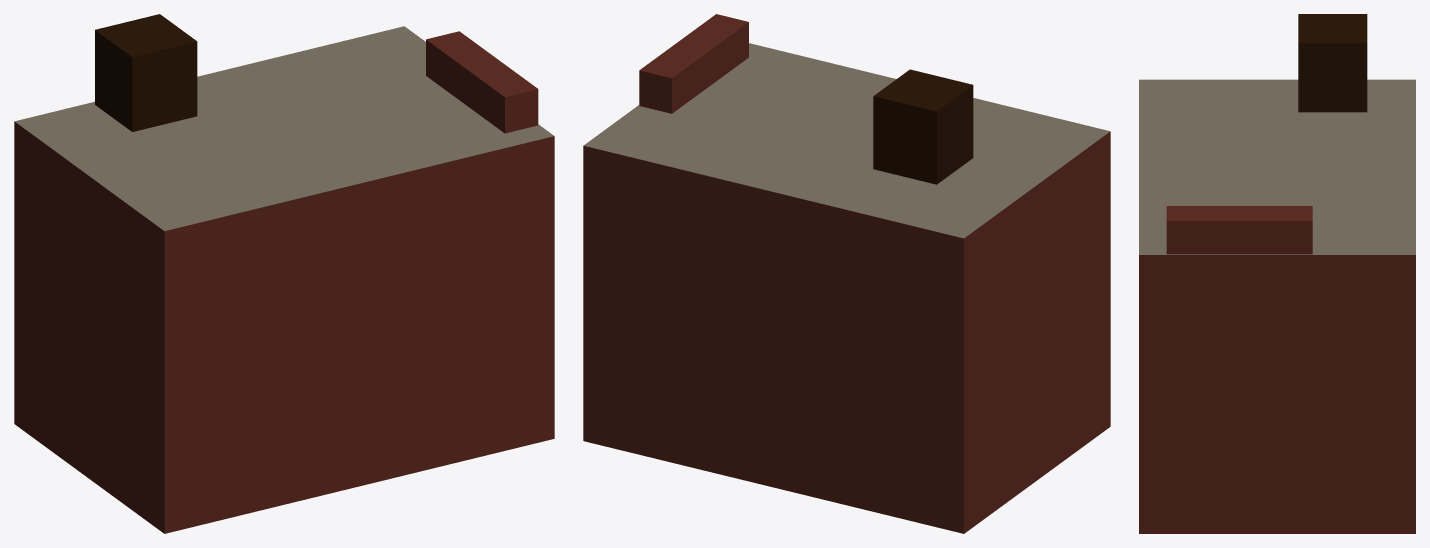
File: mh-mill-lofts.towns-v1.lod2.glb
3 renders of one model, left to right at view 1: azimuth 30°, elevation 25°; view 2: azimuth 150°, elevation 25°; view 3: azimuth 270°, elevation 25°, orthographic. The views are drawn at different scales.
Parts seen in each view (by area): view 1: mh-mill-lofts; view 2: mh-mill-lofts; view 3: mh-mill-lofts.
Part boxes in pixels (x1=…): mh-mill-lofts: x1=14, y1=14, x2=554, y2=533; mh-mill-lofts: x1=583, y1=14, x2=1110, y2=533; mh-mill-lofts: x1=1139, y1=14, x2=1415, y2=533.
Bounding box in the file's own units: 18 × 17.65 × 12.
